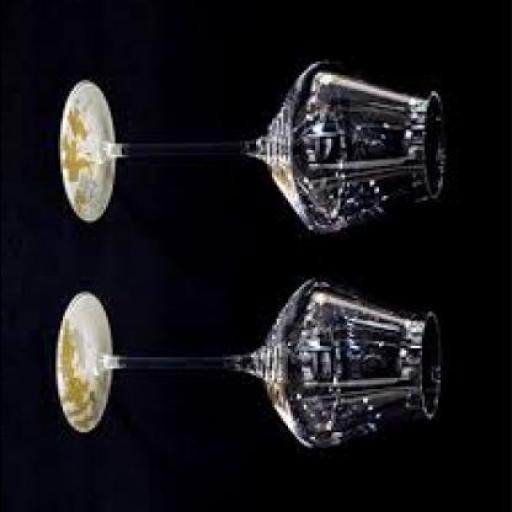glass: (59, 62, 448, 238), (57, 282, 444, 458)
